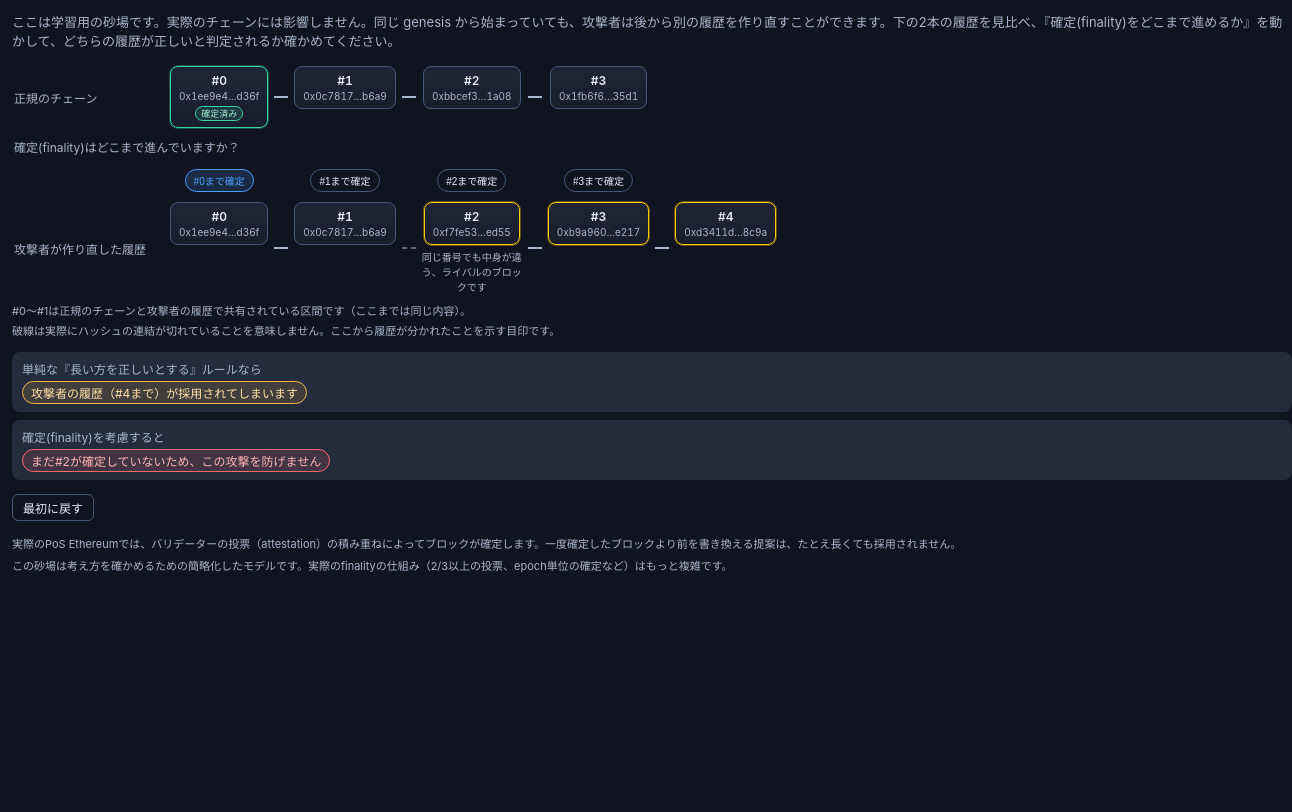
Test case: LongRangeAttackDemoView: moving the finality checkpoint › flips the finality verdict from vulnerable to protected exactly at the divergence point
divergeAt - 1: まだ防げない。
Click the button with test id "long-range-demo-checkpoint-1" at (345, 180), box [310,169,380,192]
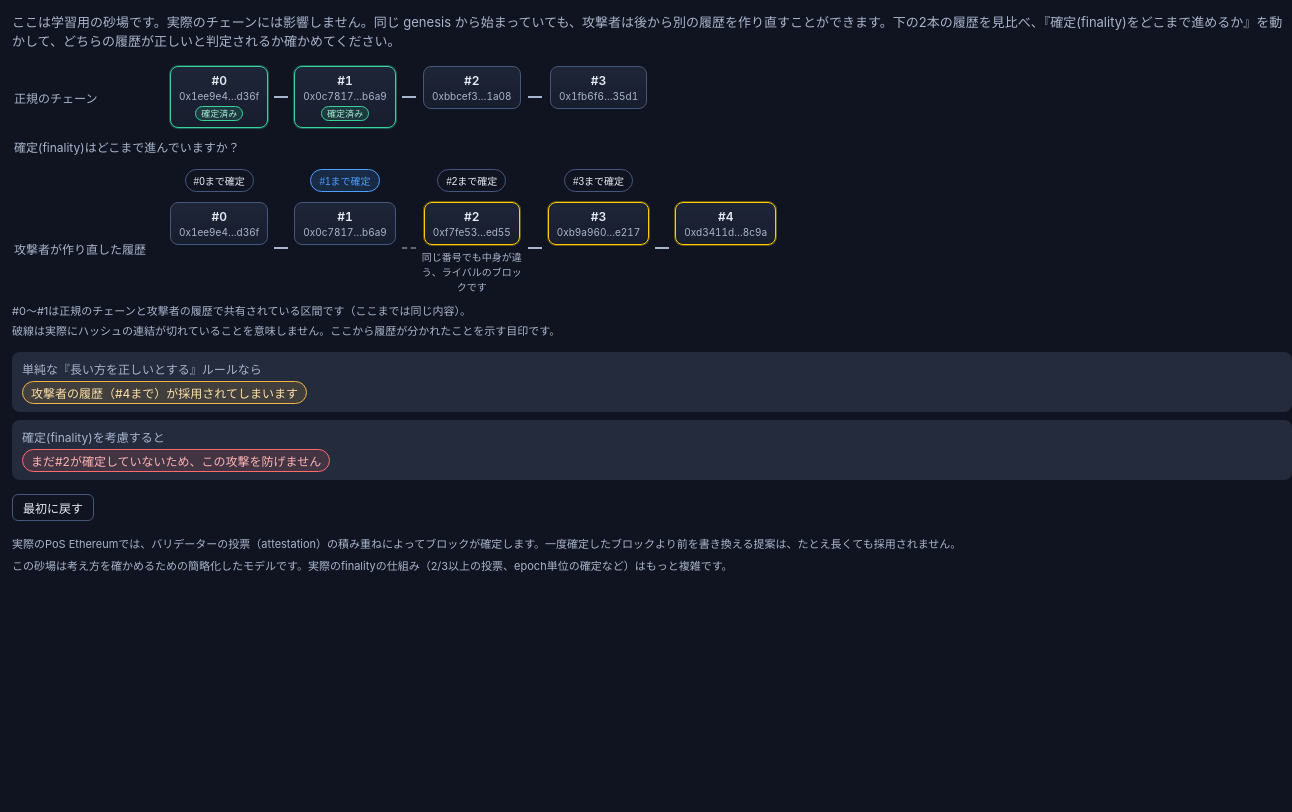
Expected: the text with test id "long-range-demo-verdict-finality" shows "防げません", [31,454,321,469]
divergeAt: 防げるようになる。
Click the button with test id "long-range-demo-checkpoint-2" at (472, 180), box [437,169,506,192]
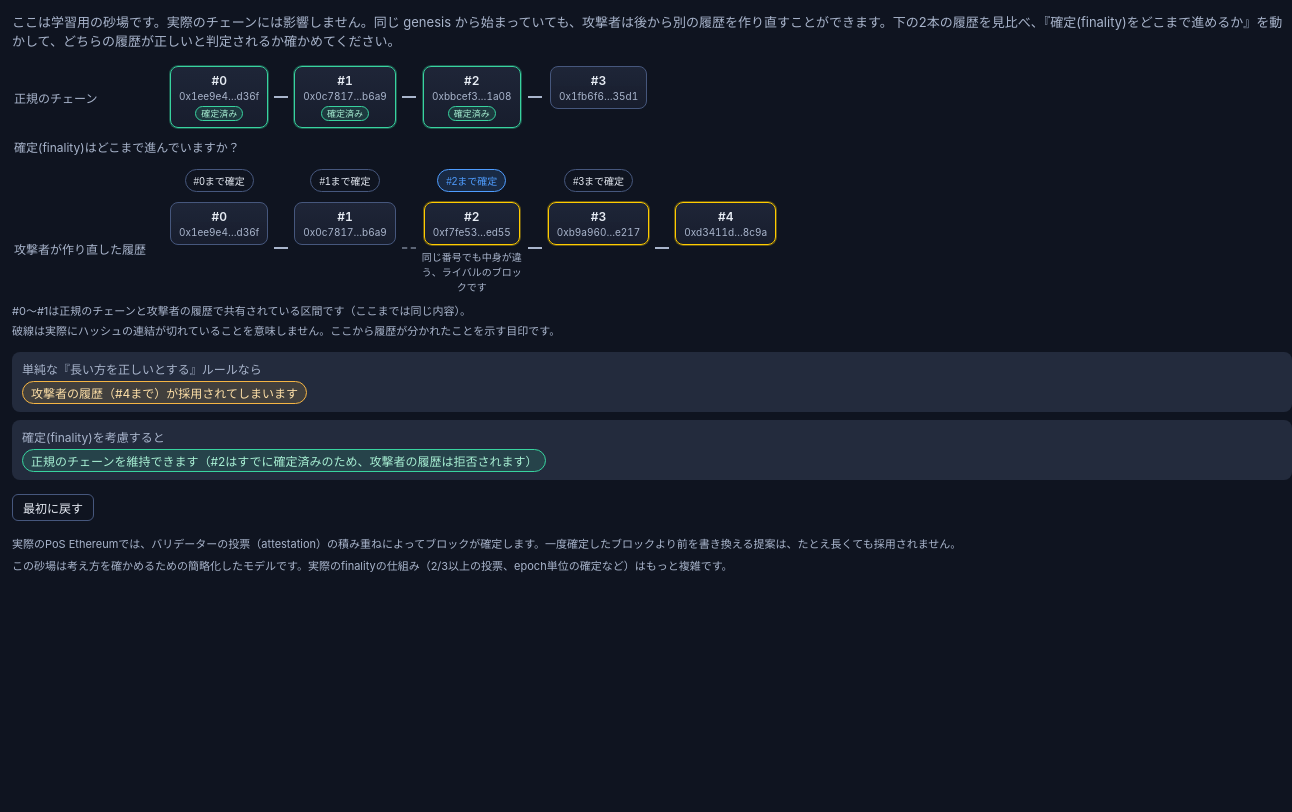
Expected: the text with test id "long-range-demo-verdict-finality" shows "維持できます", [31,454,538,469]
